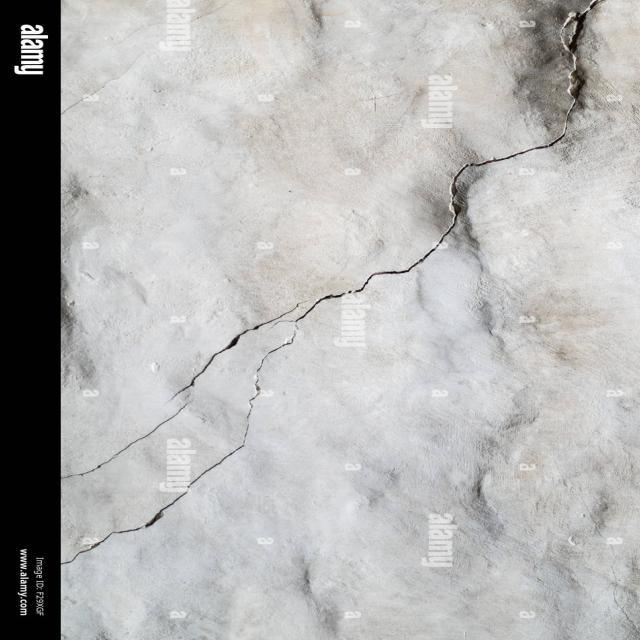Crack: (60, 0, 606, 566)
